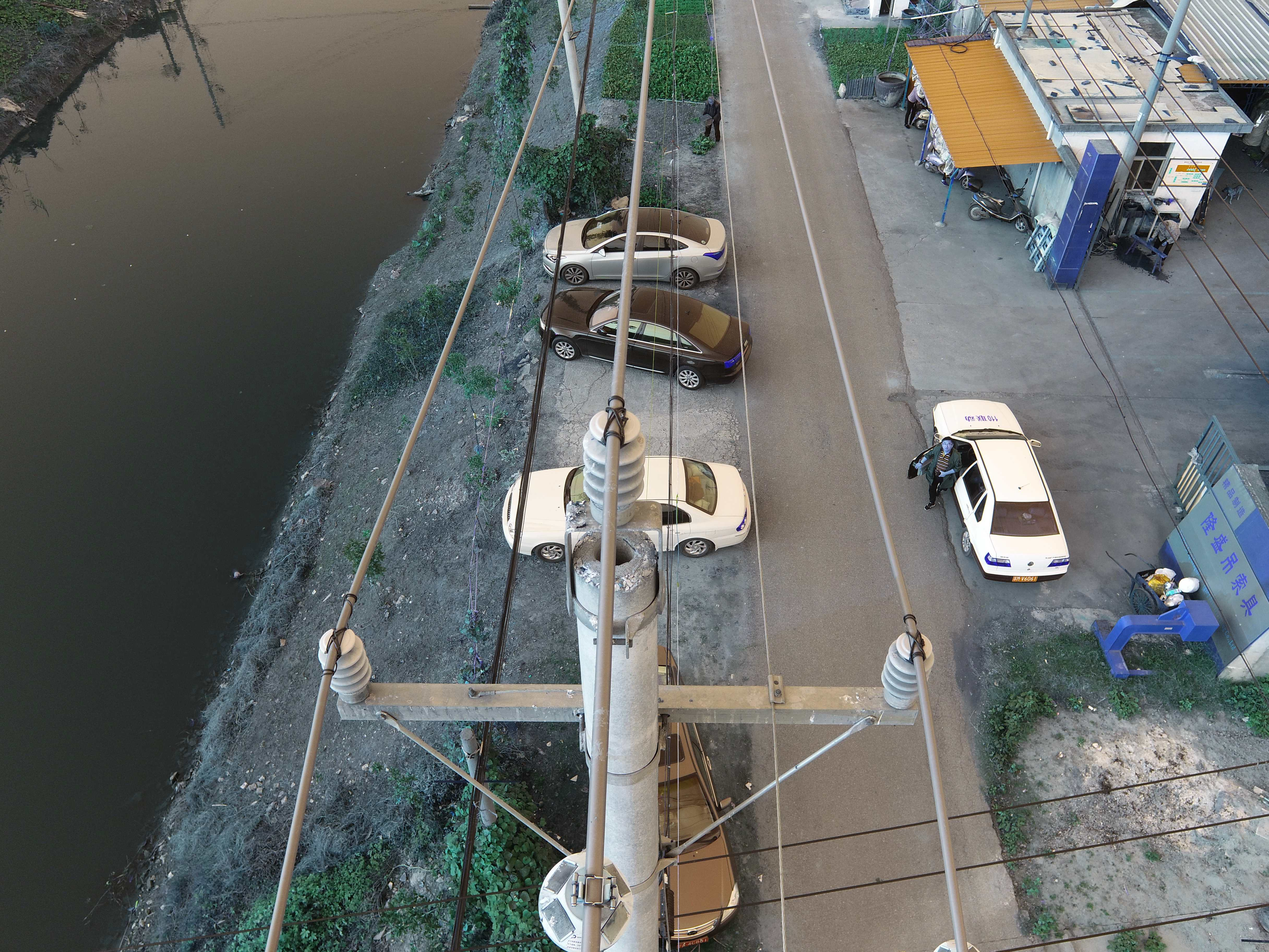severe_soiling_no_discharge_whole: (579, 404, 648, 528)
